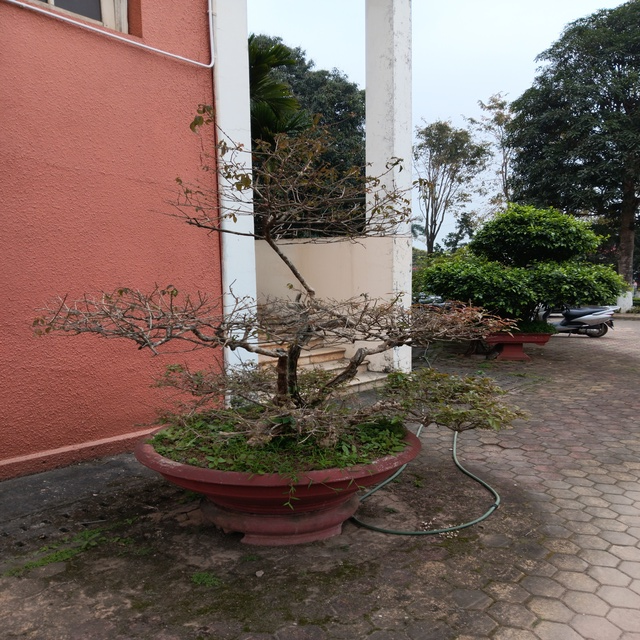caycanh: (32, 95, 527, 548), (422, 193, 633, 362)
